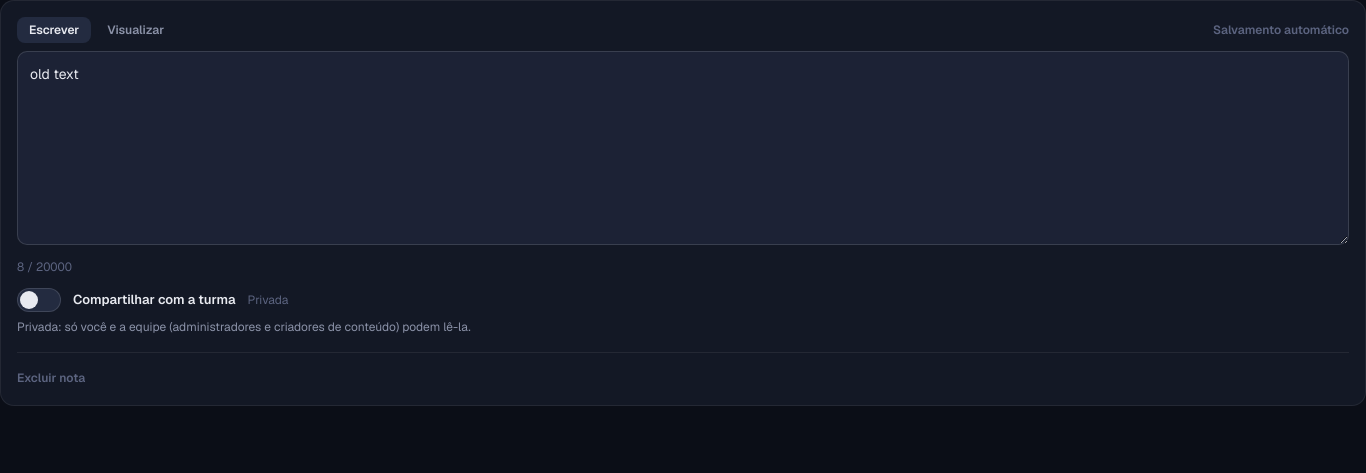
MyNoteEditor › marks the note moderated when sharing is refused with NOTE_MODERATED
Click the switch named "Compartilhar com a turma" at coordinates (39, 300), box 17,288 -> 61,312
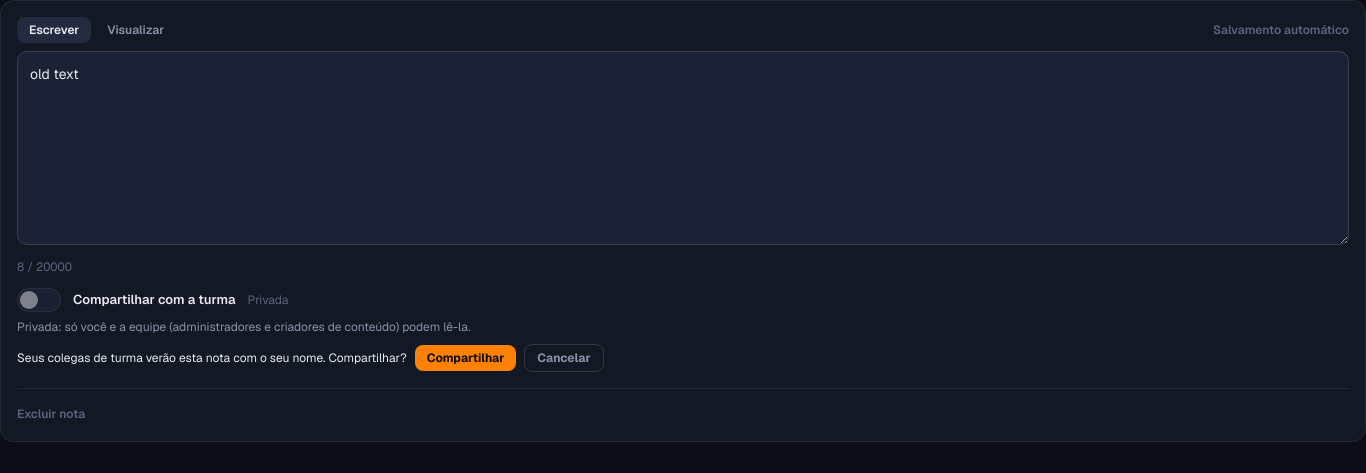
Click the button "Compartilhar" at coordinates (466, 358), box 415,345 -> 516,371
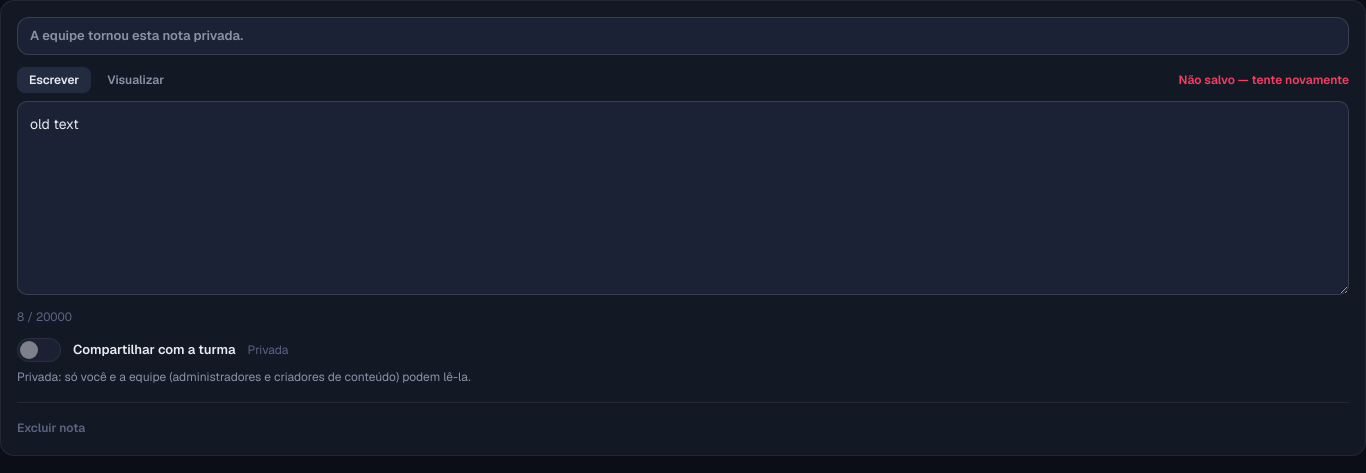
expect the switch named "Compartilhar com a turma" is disabled: met, box 17,338 -> 61,362
expect the text "A equipe tornou esta nota privada." is shown: met, box 17,17 -> 1349,54
